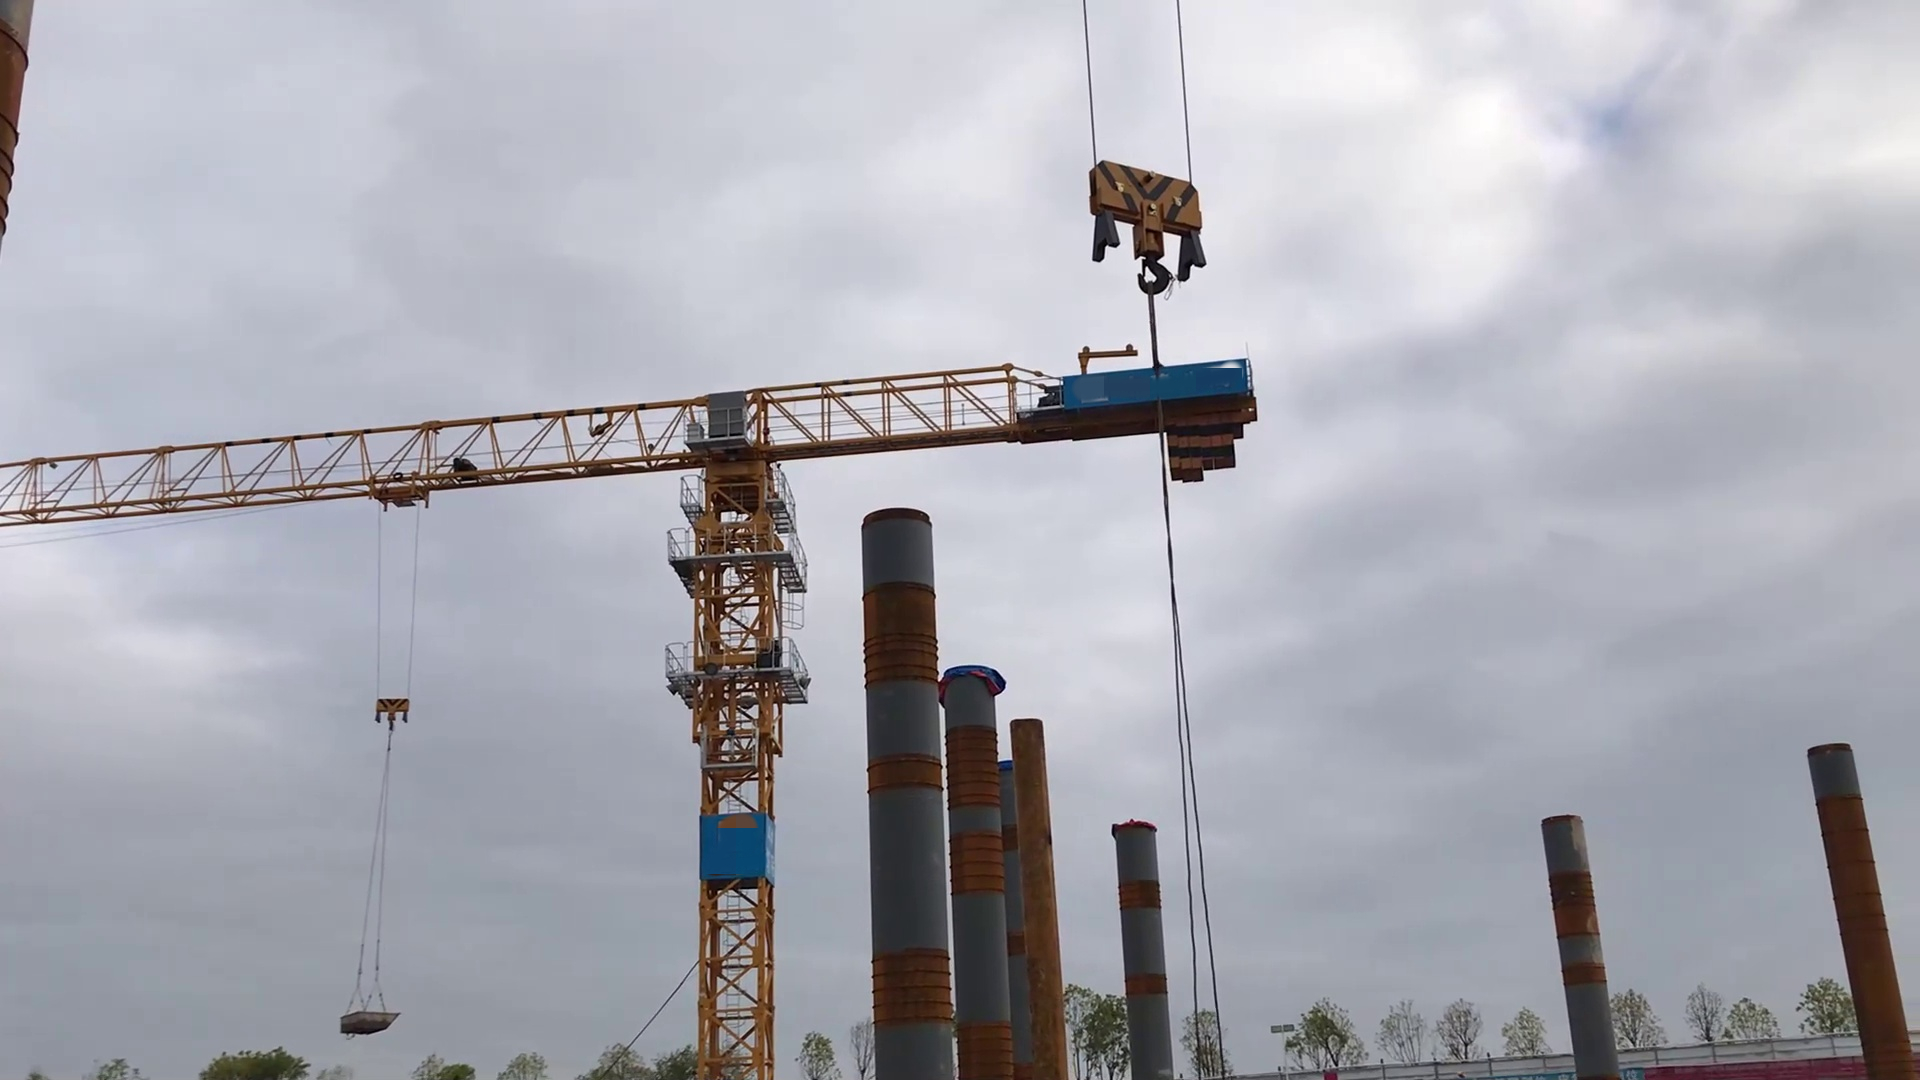hook: (1077, 153, 1215, 305), (372, 694, 413, 735)
